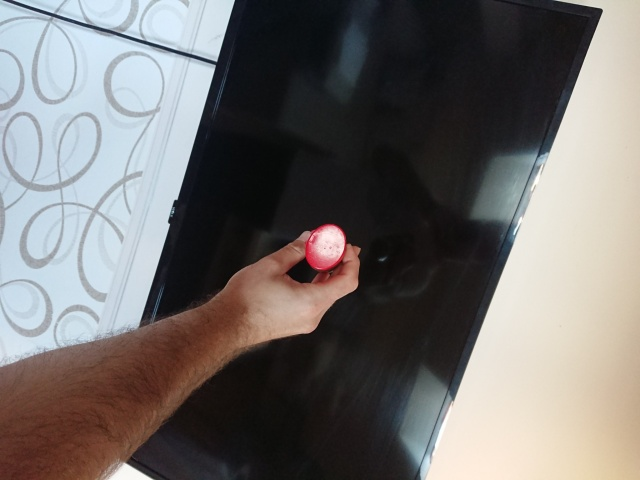Kotanyi Curry Spices Mix 70g: (303, 221, 349, 274)
